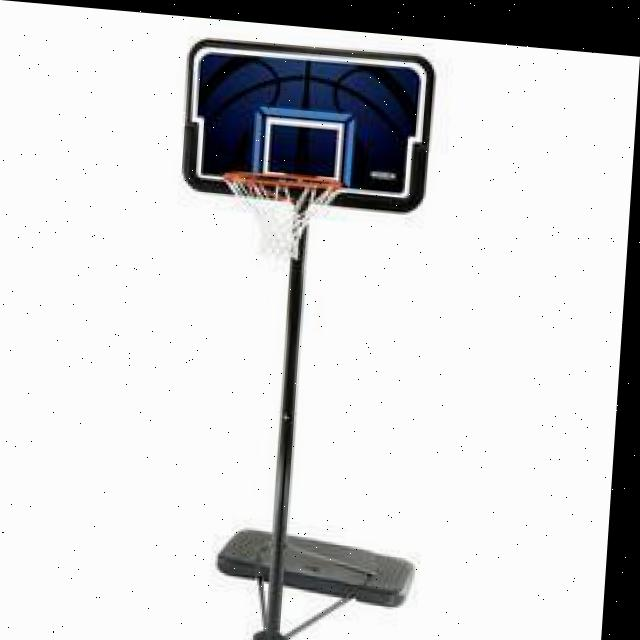hoop: (219, 168, 344, 264)
